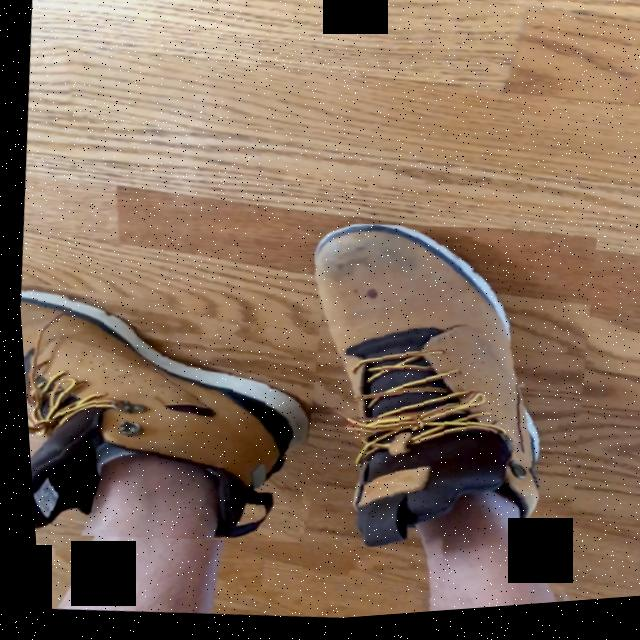shoe: (309, 229, 552, 617), (16, 296, 304, 534)
